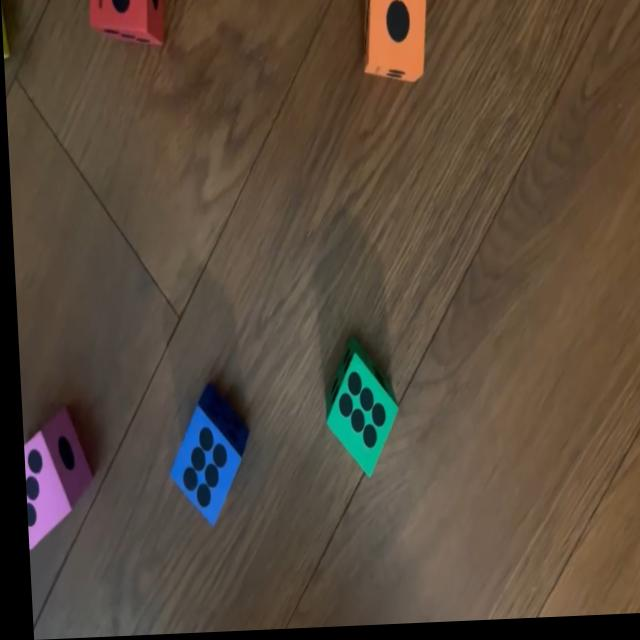cube: (313, 337, 399, 490), (158, 392, 250, 531), (17, 413, 91, 551), (85, 0, 167, 50)
